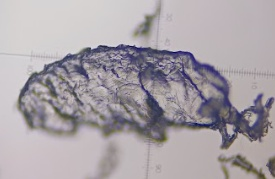microplastic: (16, 43, 232, 146), (197, 93, 275, 148), (217, 153, 265, 179), (132, 2, 163, 38), (266, 155, 275, 178), (220, 165, 229, 179)
